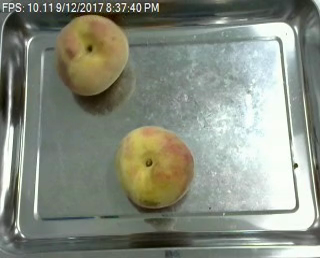Peach: (114, 126, 194, 207), (56, 13, 130, 98)
